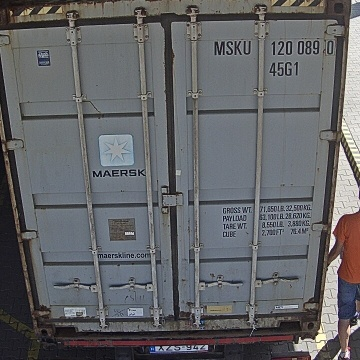serial_id: (214, 39, 335, 54)
